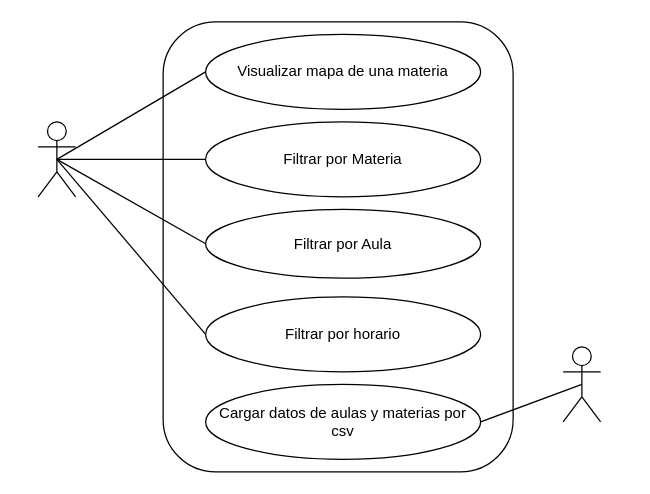
The diagram is 650 pixels wide and 494 high, and some of its shapes have lost their labels. Here are the shapes that lost their labels. From the top down, the box of each, then its label:
(37, 121, 76, 197): Estudiante
(562, 346, 601, 422): Administrador
